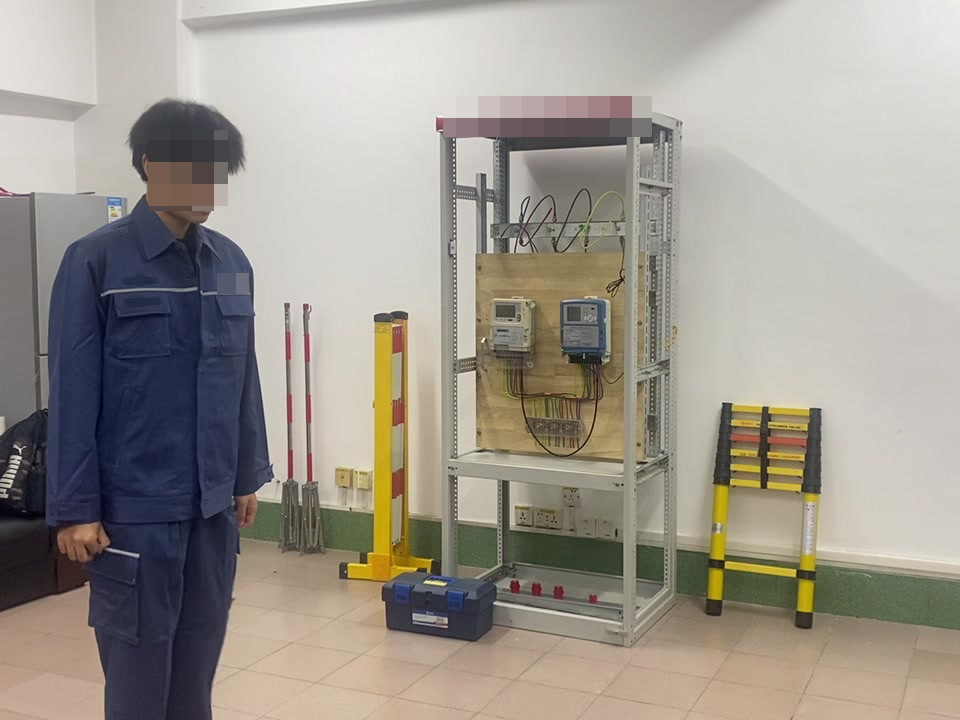downsuit: (86, 531, 244, 720)
hand: (55, 523, 110, 565), (230, 492, 260, 529)
noear: (131, 141, 176, 207)
person: (19, 91, 281, 720)
unhalt: (125, 98, 250, 228)
upsuit: (23, 220, 269, 517)
